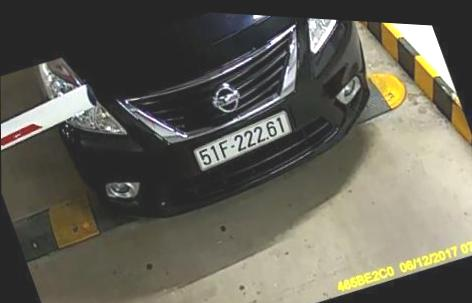License_Plate: (192, 102, 297, 181)
